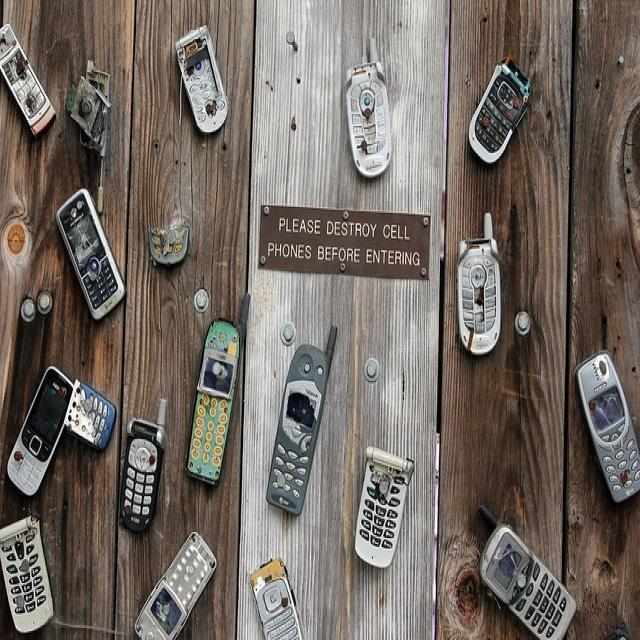E-waste: (260, 317, 343, 541), (8, 358, 122, 497), (470, 521, 597, 640), (186, 281, 254, 496), (569, 333, 640, 532), (448, 206, 516, 373), (49, 200, 134, 324), (126, 544, 232, 640), (331, 32, 396, 188), (466, 46, 540, 180), (354, 437, 419, 579), (0, 509, 63, 640), (174, 16, 231, 136), (0, 27, 56, 141), (117, 407, 164, 540), (246, 557, 316, 638)
